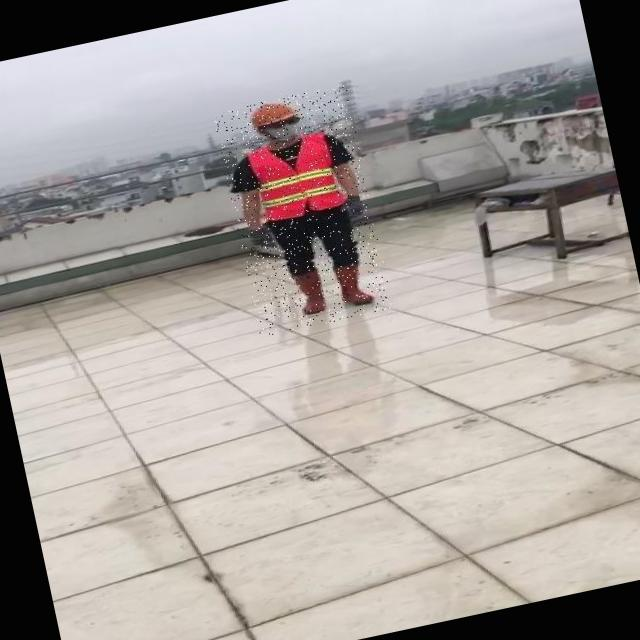boots: (332, 258, 379, 308), (292, 269, 327, 317)
helmet: (244, 94, 302, 129)
vest: (245, 130, 346, 224)
